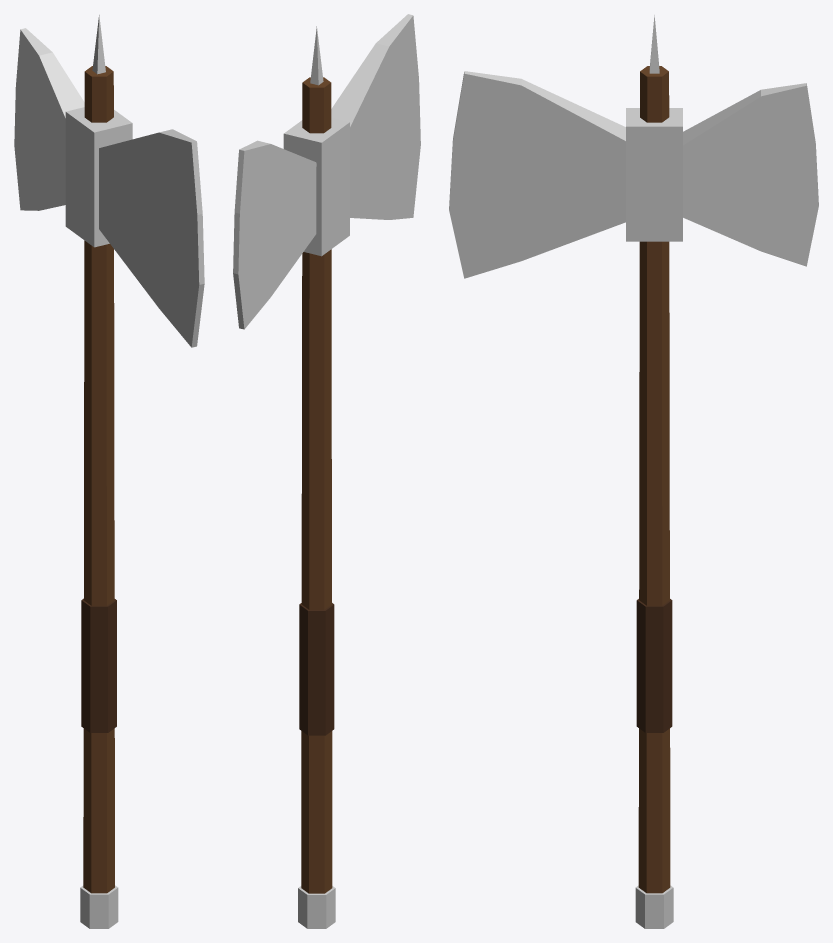
The model's file is weapon_greataxe.glb.
The picture shows the model from 3 angles, left to right: view 1: azimuth 30°, elevation 25°; view 2: azimuth 150°, elevation 25°; view 3: azimuth 270°, elevation 25°; orthographic projection.
Visible parts, largest first — view 1: weapon_greataxe; view 2: weapon_greataxe; view 3: weapon_greataxe.
Part boxes in pixels (bbox=[...]): weapon_greataxe: bbox=[14, 15, 204, 928]; weapon_greataxe: bbox=[233, 14, 420, 928]; weapon_greataxe: bbox=[449, 15, 818, 928].
Size of the model in its own units: 0.07 by 1.58 by 0.5832.
